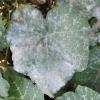Squash Powdery mildew leaf: (6, 4, 90, 97)
